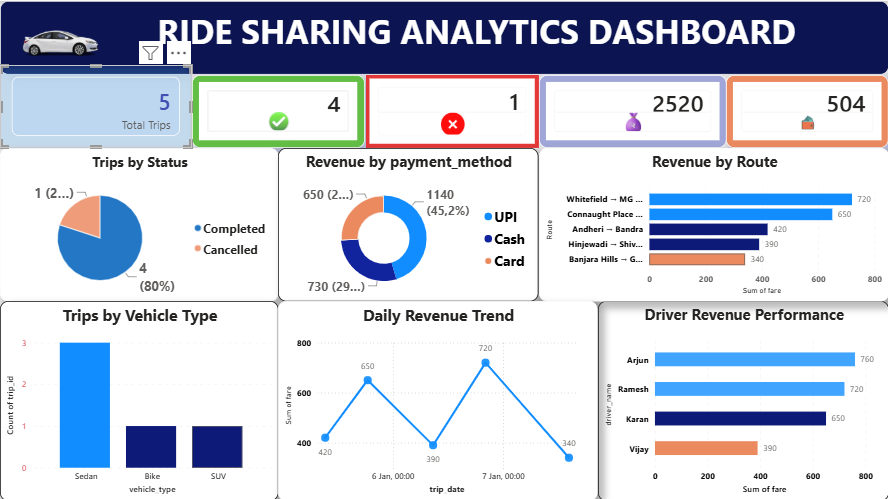

The dashboard page shown, as its layout file describes it:
{"tool":"powerbi","page":{"name":"Dashboard","canvas":[1280,720],"ordinal":0},"visuals":[{"type":"clusteredBarChart","title":"Driver Revenue Performance","fields":{"Category":["drivers.driver_name"],"Y":["Sum(trips.fare)"]},"box":[861,432.1,419,288.1],"z":0},{"type":"textbox","box":[0,0,1280,105.8],"z":1000},{"type":"image","box":[30.2,0,112.5,112.5],"z":2000},{"type":"cardVisual","fields":{"Data":["CountNonNull(trips.trip_status)"]},"box":[276.6,106.4,248.8,104.8],"z":3000},{"type":"cardVisual","title":"Cancelled Trips","fields":{"Data":["CountNonNull(trips.trip_status)"]},"box":[527.1,106.4,248.8,104.8],"z":4000},{"type":"cardVisual","fields":{"Data":["Sum(trips.fare)"]},"box":[775.9,106.4,270.1,104.8],"z":5000},{"type":"cardVisual","fields":{"Data":["Avg(trips.fare)"]},"box":[1045.9,106.4,234.1,104.8],"z":6000},{"type":"pieChart","title":"Trips by Status","fields":{"Category":["trips.trip_status"],"Y":["CountNonNull(trips.trip_id)"]},"box":[0,211.2,401,221],"z":7000},{"type":"donutChart","title":"Revenue by payment_method","fields":{"Category":["trips.payment_method"],"Y":["Sum(trips.fare)"]},"box":[401,211.2,374.8,221],"z":8000},{"type":"clusteredBarChart","title":"Revenue by Route","fields":{"Y":["Sum(trips.fare)"],"Category":["trips.Route"]},"box":[775.9,211.2,504.1,221],"z":9000},{"type":"clusteredColumnChart","title":"Trips by Vehicle Type","fields":{"Category":["drivers.vehicle_type"],"Y":["CountNonNull(trips.trip_id)"]},"box":[0,432.1,401,288.1],"z":10000},{"type":"lineChart","title":"Daily Revenue Trend","fields":{"Y":["Sum(trips.fare)"],"Category":["trips.trip_date"]},"box":[401,432.1,459.9,288.1],"z":11000},{"type":"cardVisual","fields":{"Data":["CountNonNull(trips.trip_id)"]},"box":[0,92.2,276.5,119.5],"z":11001}]}

Visuals, with their boxes in screenshot pixels (x1, y1, x2, y2), scaled from the page's 1280x720 canvas onto the 888x499 screenshot:
"Driver Revenue Performance" clusteredBarChart: left=597, top=299, right=887, bottom=498
textbox: left=0, top=0, right=887, bottom=73
image: left=21, top=0, right=99, bottom=78
cardVisual - CountNonNull(trips.trip_status): left=192, top=74, right=364, bottom=146
"Cancelled Trips" cardVisual: left=366, top=74, right=538, bottom=146
cardVisual - Sum(trips.fare): left=538, top=74, right=726, bottom=146
cardVisual - Avg(trips.fare): left=726, top=74, right=887, bottom=146
"Trips by Status" pieChart: left=0, top=146, right=278, bottom=300
"Revenue by payment_method" donutChart: left=278, top=146, right=538, bottom=300
"Revenue by Route" clusteredBarChart: left=538, top=146, right=887, bottom=300
"Trips by Vehicle Type" clusteredColumnChart: left=0, top=299, right=278, bottom=498
"Daily Revenue Trend" lineChart: left=278, top=299, right=597, bottom=498
cardVisual - CountNonNull(trips.trip_id): left=0, top=64, right=192, bottom=147
